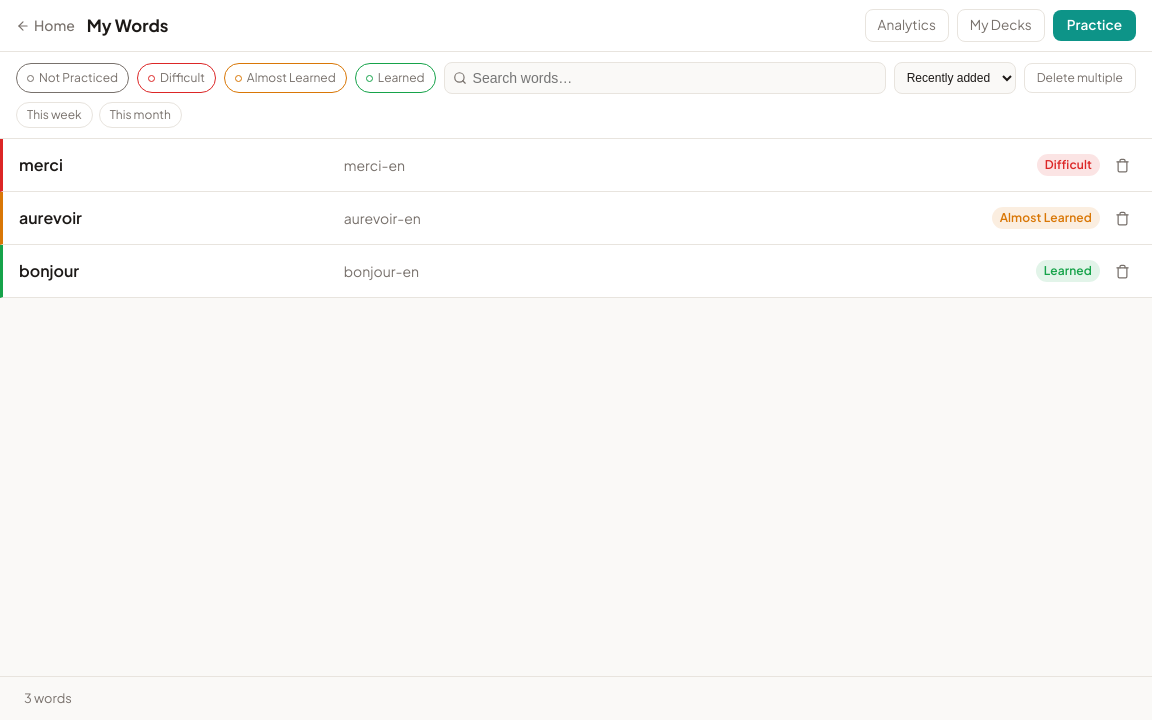
Test case: Flashcards — bulk selection › clears the selection when select mode is cancelled
The width and height of the screenshot is (1152, 720).
Expected: the text "bonjour" is shown, [19, 260, 79, 281]
Click the button "Delete multiple".
click(1080, 78)  # box [1024, 63, 1136, 93]
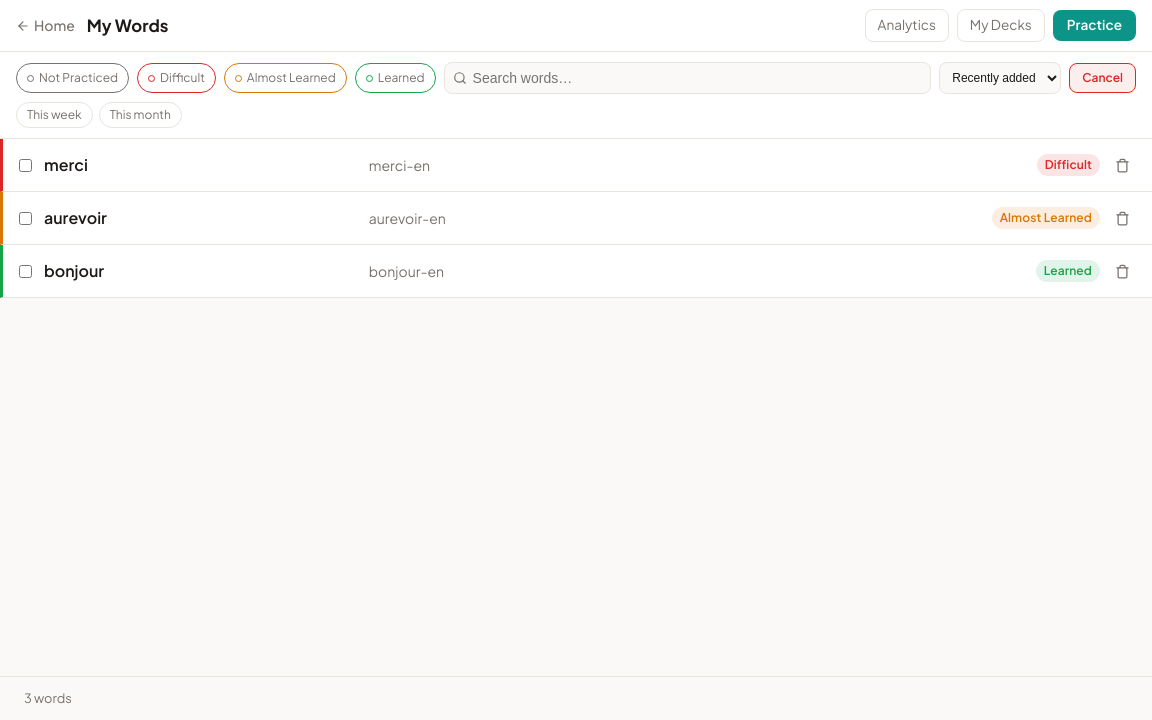
Click the checkbox named "Select bonjour".
click(26, 271)  # box [19, 264, 32, 278]
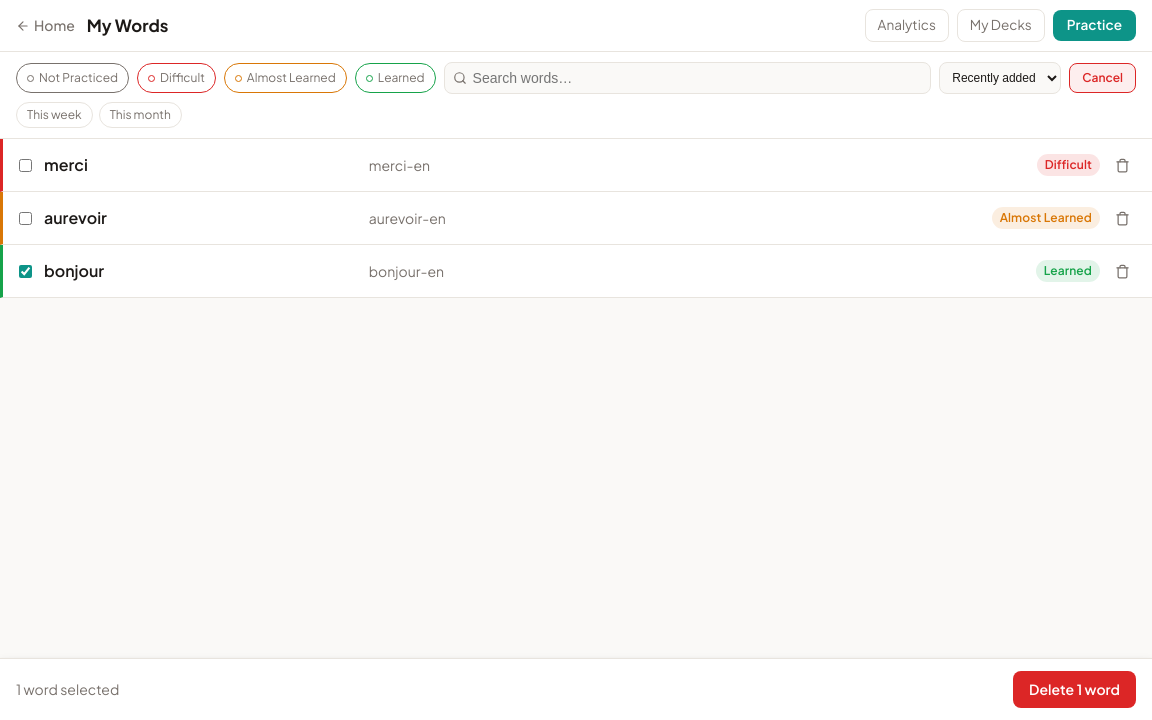
Expected: the text "1 word selected" is shown, [16, 679, 119, 700]
Click the button "Cancel".
click(1103, 78)  # box [1069, 63, 1136, 93]
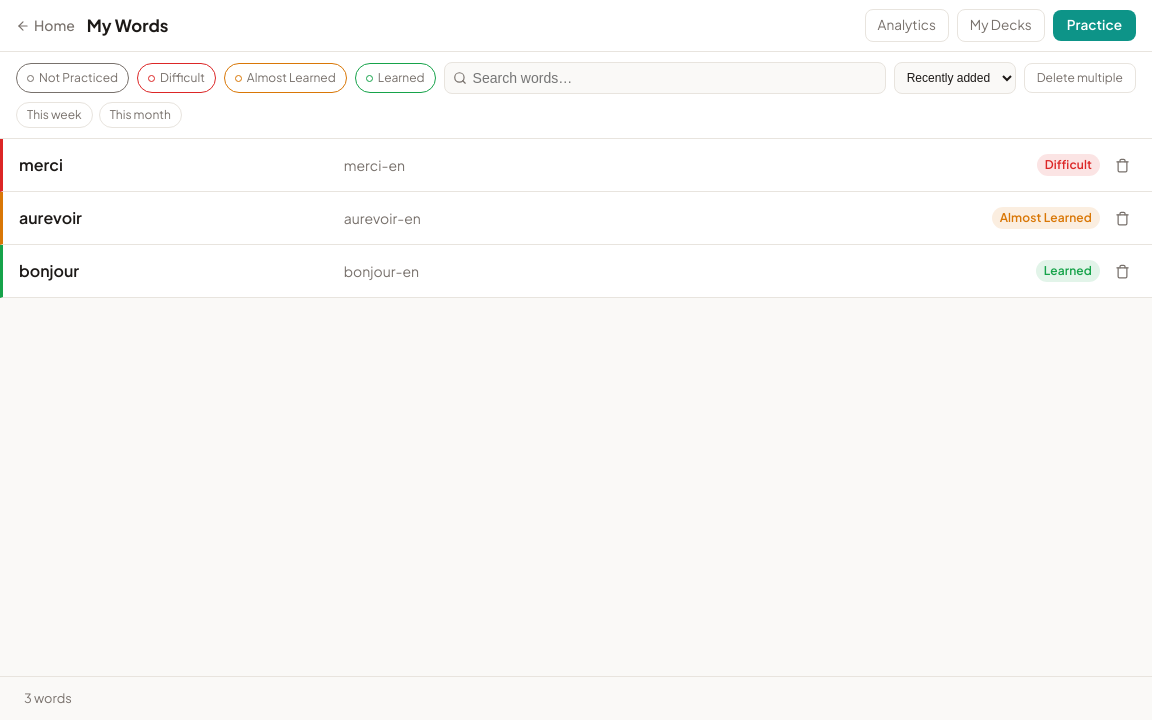
Expected: the checkbox is gone
